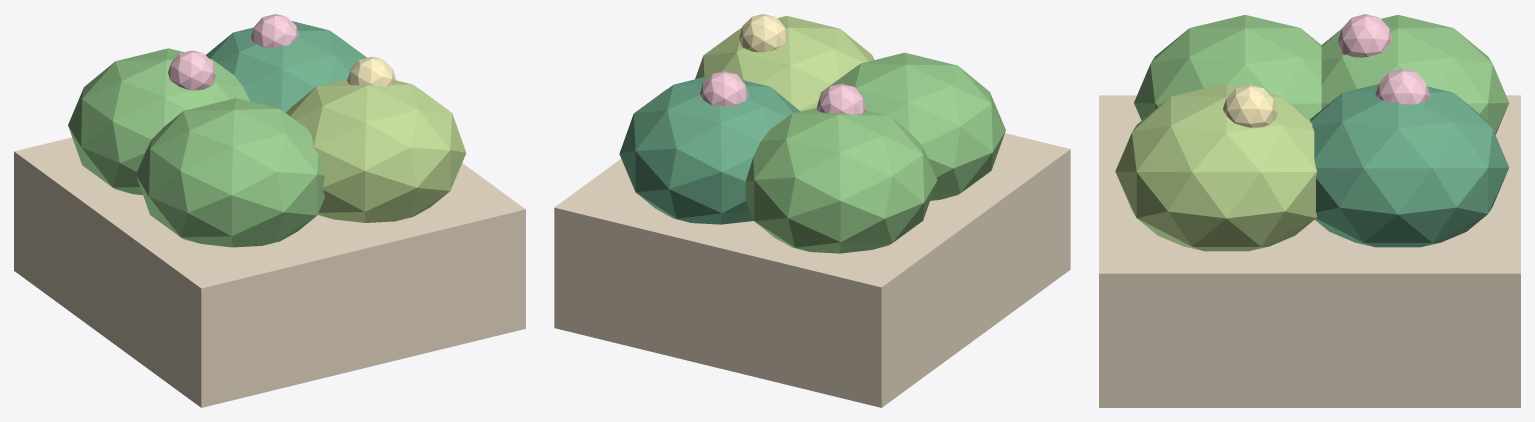
File: Flowerbed_OutsideBoard.glb
The picture shows the model from 3 angles, left to right: view 1: azimuth 30°, elevation 25°; view 2: azimuth 150°, elevation 25°; view 3: azimuth 270°, elevation 25°; orthographic projection. The views are drawn at different scales.
Parts seen in each view (by area): view 1: flowerbed_0, leaves_4, leaves_3, leaves_1, leaves_2, petal_5, petal_7, petal_6; view 2: flowerbed_0, leaves_1, leaves_2, leaves_4, leaves_3, petal_6, petal_7, petal_5; view 3: flowerbed_0, leaves_2, leaves_3, leaves_4, leaves_1, petal_5, petal_6, petal_7.
Boxes of the visible parts, <box> form: flowerbed_0: <box>14,137,525,407</box>; leaves_4: <box>136,98,324,247</box>; leaves_3: <box>286,79,466,222</box>; leaves_1: <box>68,48,249,195</box>; leaves_2: <box>206,21,366,112</box>; petal_5: <box>168,50,216,90</box>; petal_7: <box>250,14,298,47</box>; petal_6: <box>347,57,396,86</box>; flowerbed_0: <box>554,133,1070,407</box>; leaves_1: <box>745,107,937,253</box>; leaves_2: <box>619,75,800,224</box>; leaves_4: <box>820,52,1005,200</box>; leaves_3: <box>695,16,873,111</box>; petal_6: <box>739,14,787,52</box>; petal_7: <box>700,71,748,106</box>; petal_5: <box>816,83,866,114</box>; flowerbed_0: <box>1099,95,1520,407</box>; leaves_2: <box>1310,84,1509,247</box>; leaves_3: <box>1115,83,1316,251</box>; leaves_4: <box>1134,15,1321,120</box>; leaves_1: <box>1321,15,1508,134</box>; petal_5: <box>1338,14,1391,57</box>; petal_6: <box>1223,84,1277,127</box>; petal_7: <box>1375,69,1430,104</box>.
Size of the model in its own units: 0.91 by 0.65 by 0.91.
